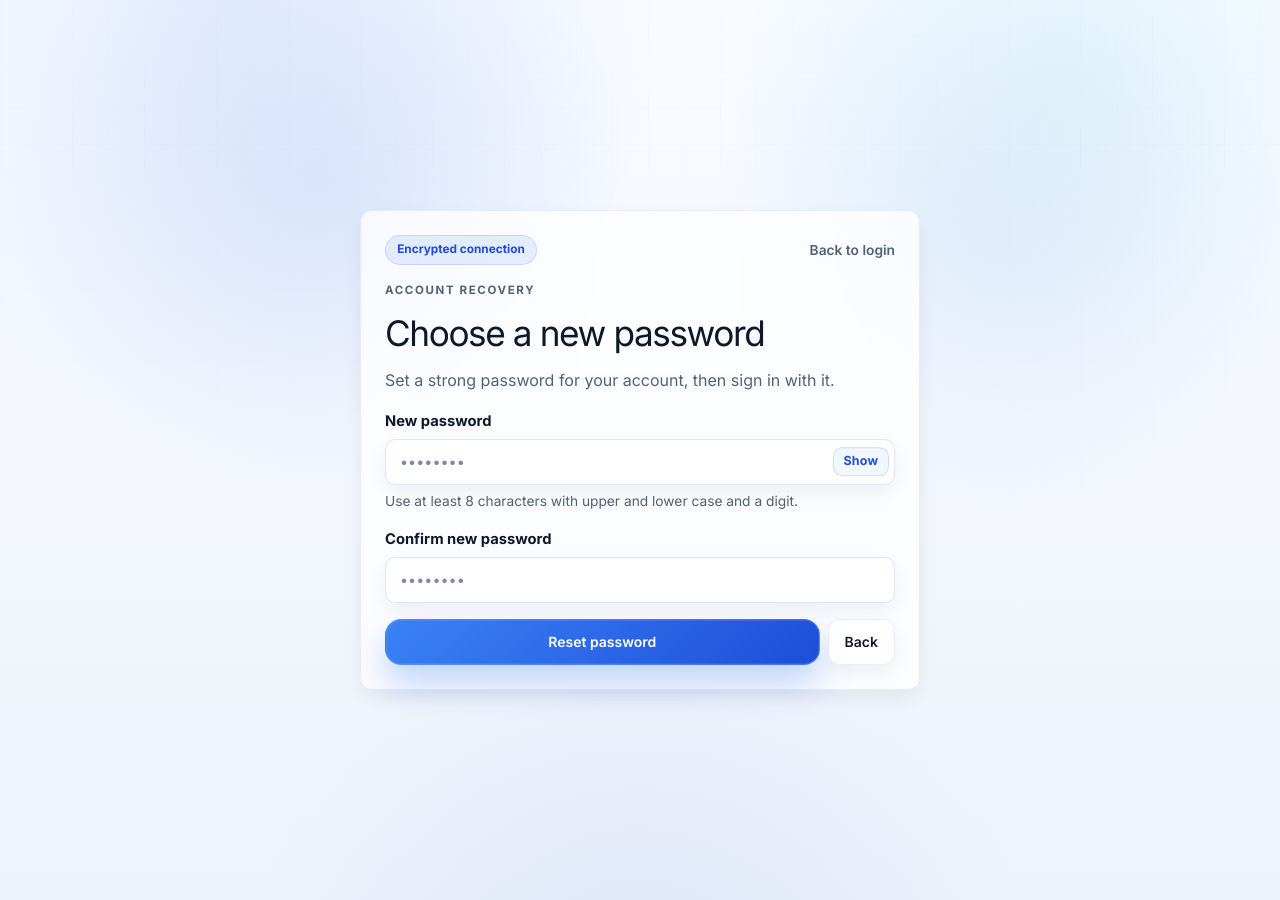
Test: PasswordResetRoutePage › surfaces a reset error
Type "NewPass123" into the password field labelled "New password" at (640, 462), box [385,439,895,485]
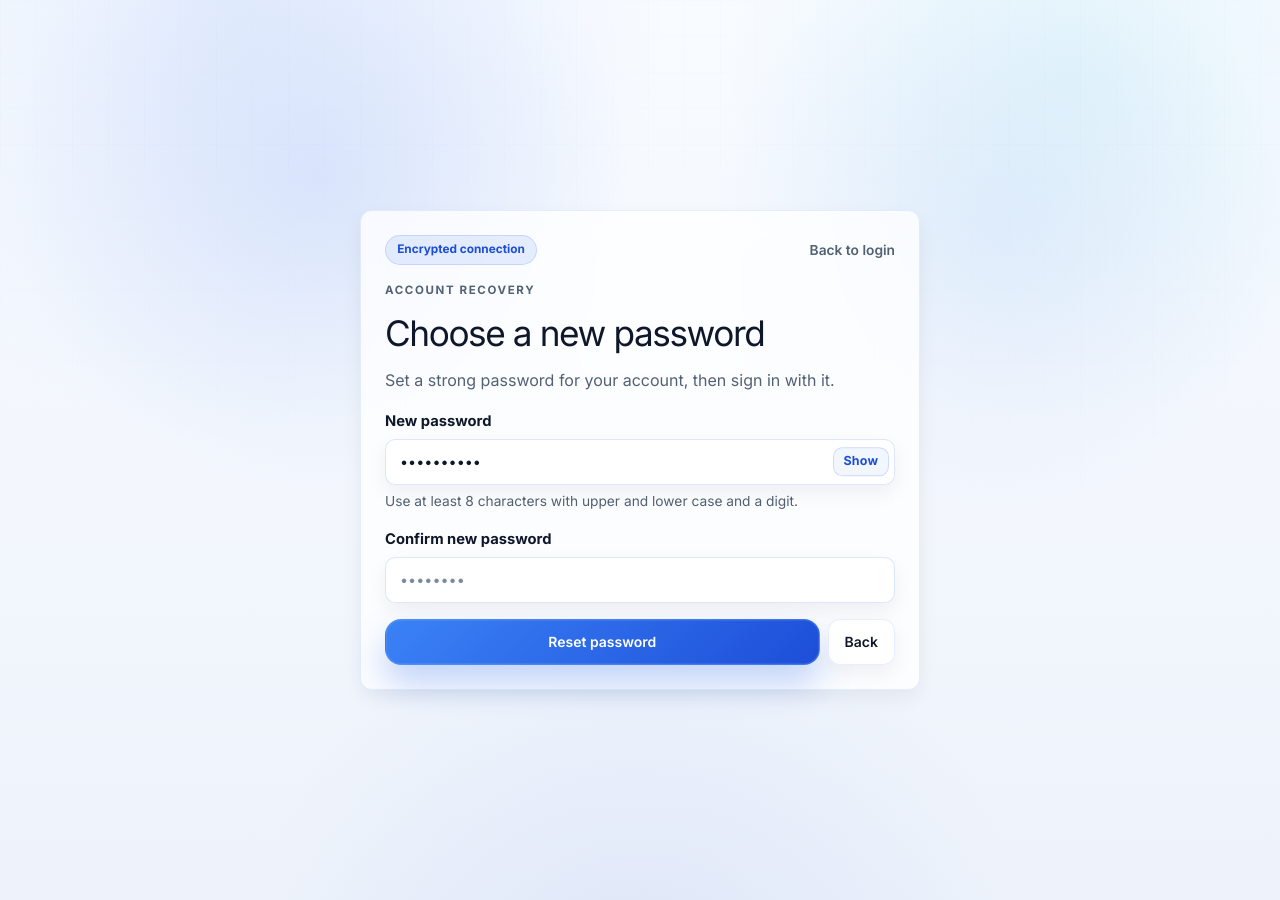
Type "NewPass123" into the password field labelled "Confirm new password" at (640, 580), box [385,557,895,603]
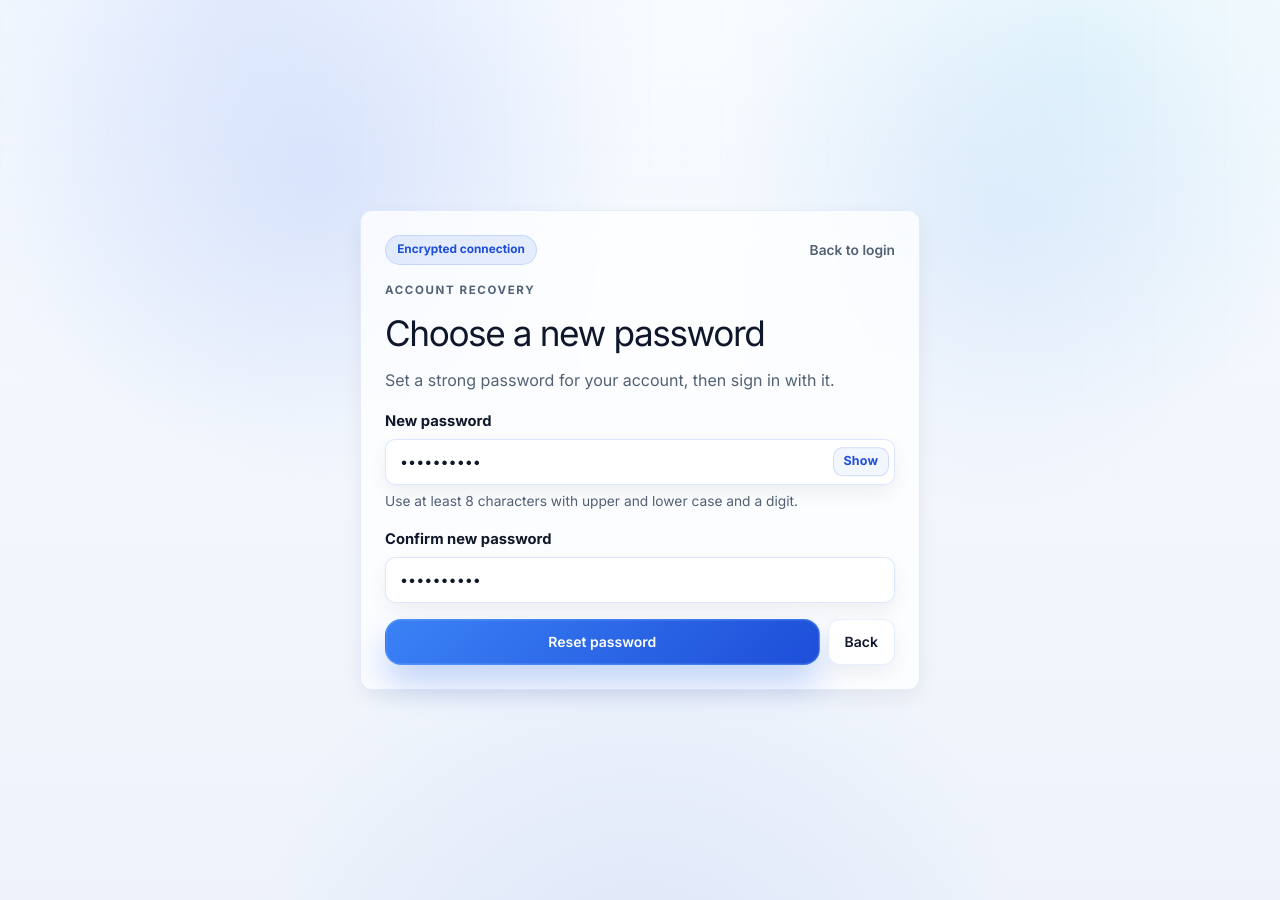
Click the button "Reset password" at (602, 642), box [385,619,820,665]
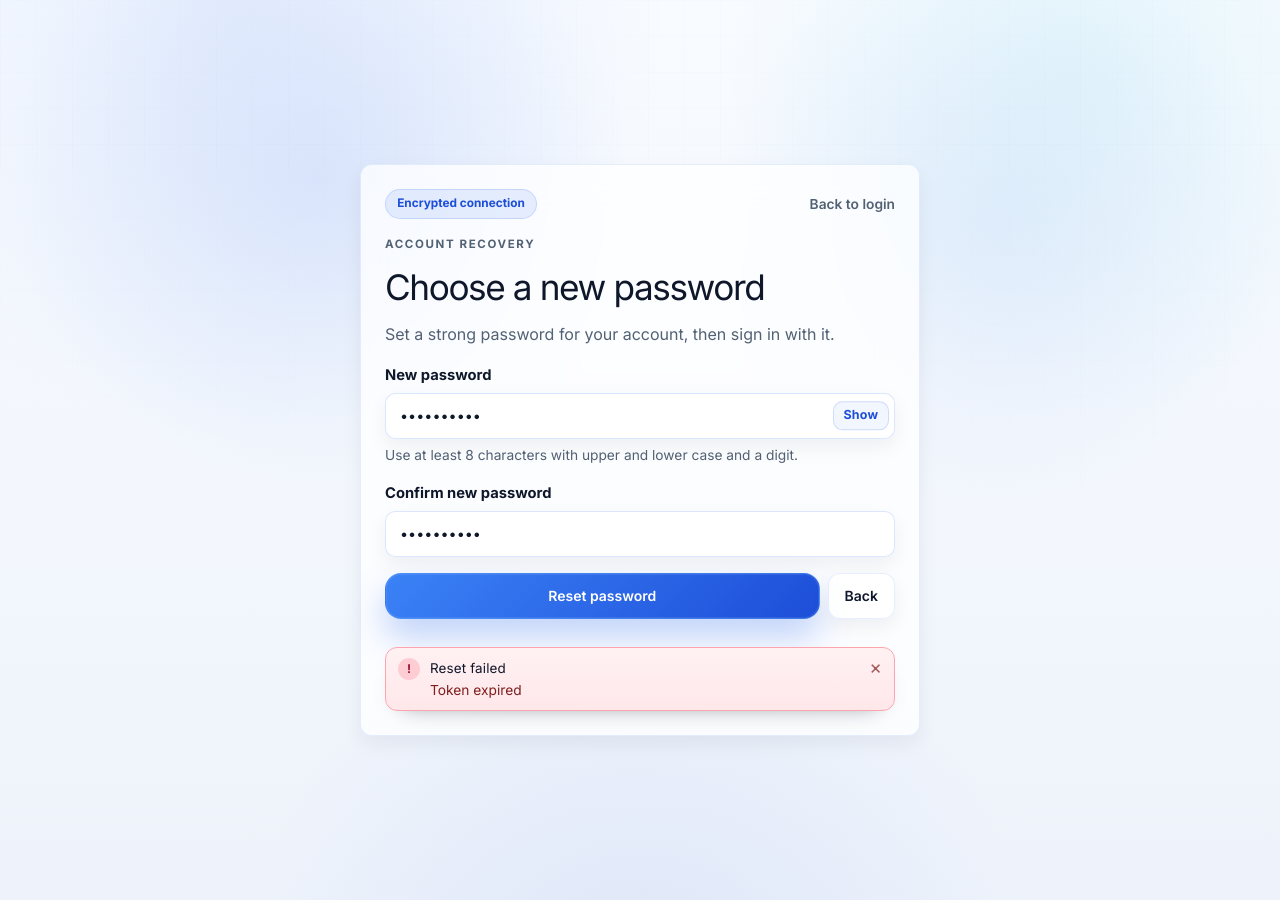
expect the heading "Reset failed" is shown: met, box [430,660,506,676]
expect the text "Token expired" is shown: met, box [430,682,522,698]
